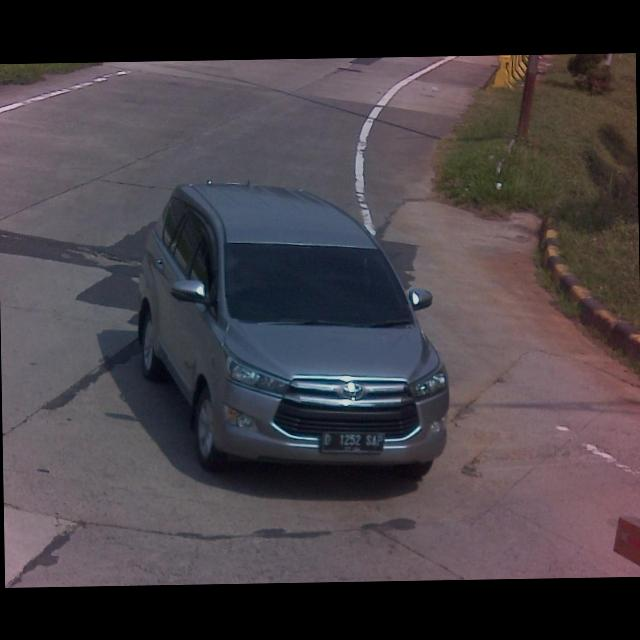plate: (318, 431, 388, 454)
